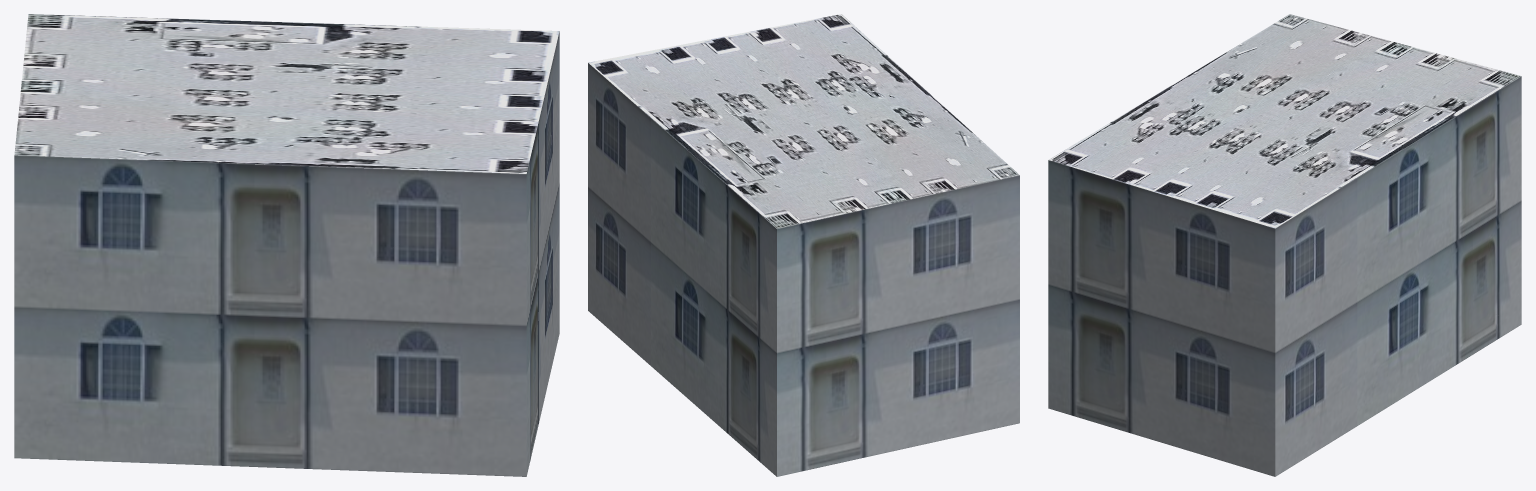
The model's file is ResTex__4842.fbx.
3 views of the same model, side by side, from view 1: azimuth 30°, elevation 25°; view 2: azimuth 150°, elevation 25°; view 3: azimuth 270°, elevation 25° (orthographic). The views are drawn at different scales.
Parts seen in each view (by area): view 1: CityEngineMaterial_17_m, CityEngineMaterial_m; view 2: CityEngineMaterial_17_m, CityEngineMaterial_m; view 3: CityEngineMaterial_17_m, CityEngineMaterial_m.
Boxes of the visible parts, x1,y1,x2,y2 form: CityEngineMaterial_17_m: (14,31,559,476); CityEngineMaterial_m: (14,14,559,173); CityEngineMaterial_17_m: (588,63,1019,476); CityEngineMaterial_m: (588,14,1019,228); CityEngineMaterial_17_m: (1048,76,1521,476); CityEngineMaterial_m: (1049,14,1521,228).
Size of the model in its own units: 11.12 by 6 by 10.36.
Materials: 2 (2 with a texture image).
